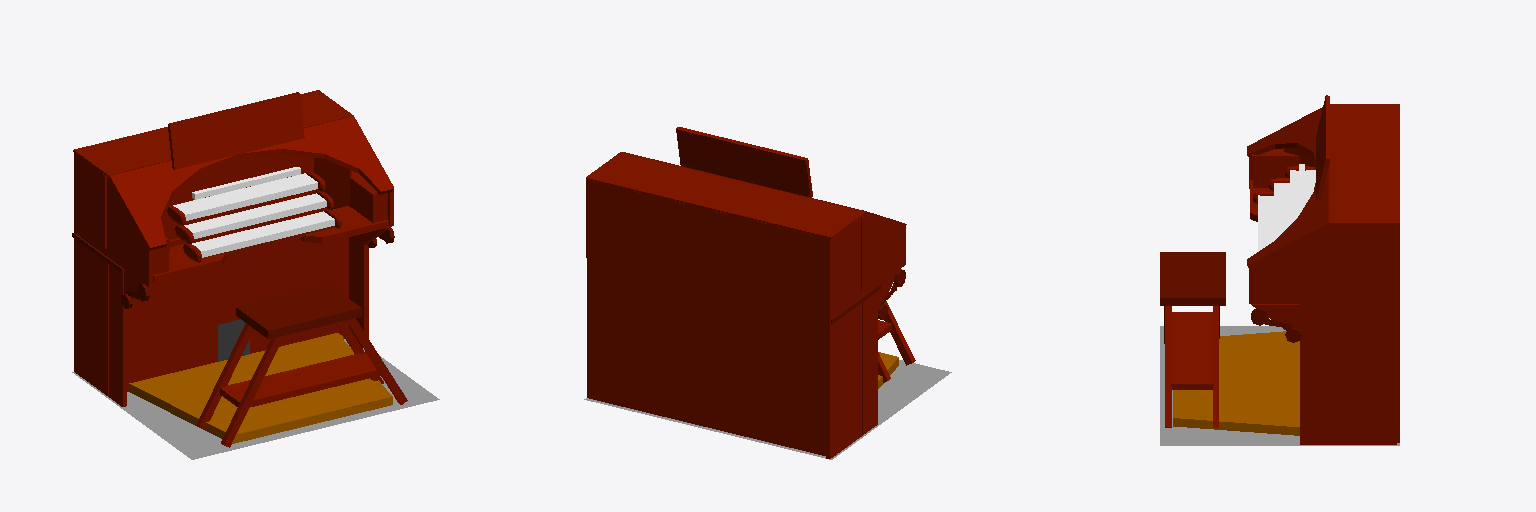
Rendered from pianito.obj.
The picture shows the model from 3 angles: view 1: azimuth 30°, elevation 25°; view 2: azimuth 150°, elevation 25°; view 3: azimuth 270°, elevation 25°; orthographic projection.
Visible parts, largest first — view 1: dividerwall_9, Boolean_3_42, cutslopefront_34, musicrack_40, Cube_1_2, ground_1, Boolean_left_5, bench_seat_41, top_7, Cube_7_47, nameboard_36, manualkeys_1_16 (+12 smaller); view 2: backwall_8, top_7, Cube_1_2, musicrack_40, Boolean_left_5, ground_1, Cube_6_2_45; view 3: Cube_1_1_3, Boolean_right_6, Boolean_3_42, top_7, bench_seat_41, cutslopefront_34, ground_1, Cube_7_47, Cube_9_24, musicrack_40, Cube_6_43, manualkeys_2_20 (+4 smaller).
Boxes of the visible parts, x1=… form: dividerwall_9: x1=106, y1=237, x2=348, y2=396; Boolean_3_42: x1=129, y1=333, x2=392, y2=443; cutslopefront_34: x1=109, y1=116, x2=393, y2=250; musicrack_40: x1=168, y1=92, x2=304, y2=169; Cube_1_2: x1=74, y1=240, x2=126, y2=406; ground_1: x1=72, y1=339, x2=439, y2=459; Boolean_left_5: x1=76, y1=154, x2=152, y2=287; bench_seat_41: x1=236, y1=284, x2=361, y2=338; top_7: x1=73, y1=90, x2=349, y2=177; Cube_7_47: x1=220, y1=352, x2=380, y2=406; nameboard_36: x1=103, y1=154, x2=313, y2=248; manualkeys_1_16: x1=173, y1=173, x2=317, y2=220; backwall_8: x1=587, y1=180, x2=832, y2=456; top_7: x1=587, y1=153, x2=865, y2=239; Cube_1_2: x1=826, y1=292, x2=877, y2=458; musicrack_40: x1=676, y1=127, x2=812, y2=197; Boolean_left_5: x1=833, y1=215, x2=905, y2=317; ground_1: x1=584, y1=360, x2=951, y2=459; Cube_6_2_45: x1=884, y1=301, x2=915, y2=365; Cube_1_1_3: x1=1300, y1=304, x2=1396, y2=444; Boolean_right_6: x1=1249, y1=221, x2=1398, y2=303; Boolean_3_42: x1=1173, y1=331, x2=1299, y2=435; top_7: x1=1330, y1=104, x2=1399, y2=224; bench_seat_41: x1=1160, y1=252, x2=1225, y2=305; cutslopefront_34: x1=1247, y1=107, x2=1329, y2=267; ground_1: x1=1160, y1=326, x2=1399, y2=445; Cube_7_47: x1=1171, y1=312, x2=1213, y2=389; Cube_9_24: x1=1252, y1=148, x2=1299, y2=187; musicrack_40: x1=1316, y1=95, x2=1329, y2=200; Cube_6_43: x1=1165, y1=306, x2=1171, y2=427; manualkeys_2_20: x1=1258, y1=195, x2=1273, y2=251.
Size of the model in its own units: 186 by 186 by 156.